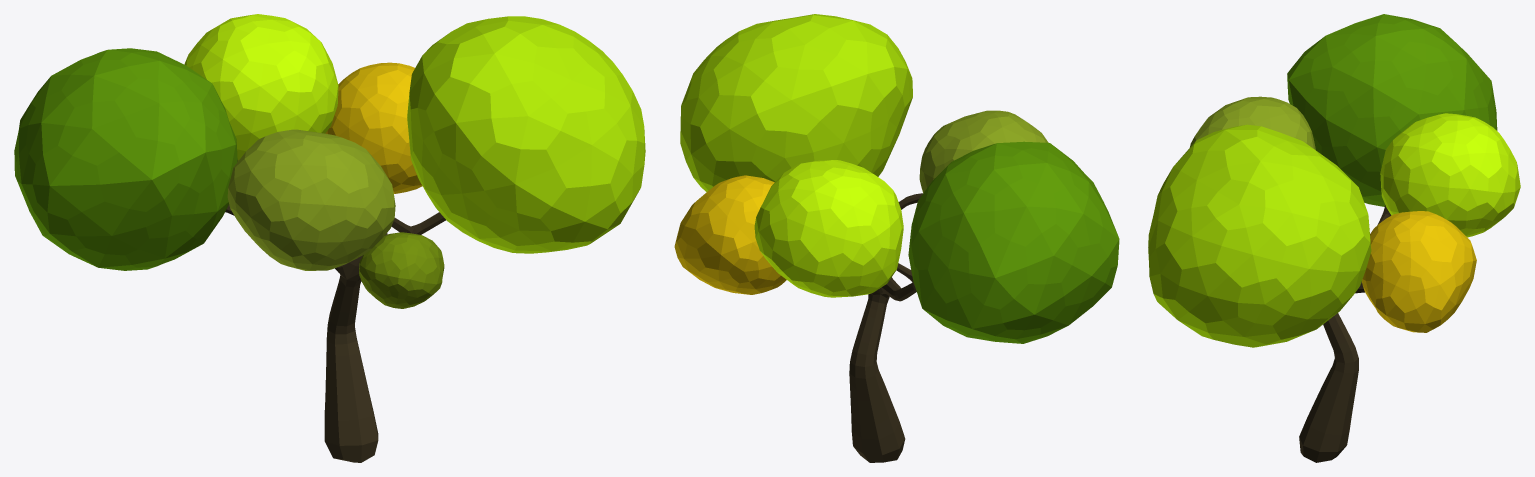
The model's file is tree02.glb.
3 views of the same model, side by side, from view 1: azimuth 30°, elevation 25°; view 2: azimuth 150°, elevation 25°; view 3: azimuth 270°, elevation 25° (orthographic). The views are drawn at different scales.
Parts seen in each view (by area): view 1: Icosphere.002, Icosphere.005, Icosphere.001, Icosphere.003, Cube, Icosphere.004, Icosphere; view 2: Icosphere.005, Icosphere.002, Icosphere.003, Icosphere.004, Cube, Icosphere.001; view 3: Icosphere.002, Icosphere.005, Icosphere.003, Icosphere.004, Cube, Icosphere.001.
Part boxes in pixels (x1,y1,x2,y2): Icosphere.002: (407, 16, 645, 253); Icosphere.005: (14, 48, 237, 270); Icosphere.001: (227, 129, 395, 270); Icosphere.003: (184, 14, 338, 161); Cube: (225, 160, 445, 462); Icosphere.004: (325, 62, 422, 193); Icosphere: (359, 232, 444, 308); Icosphere.005: (908, 141, 1119, 343); Icosphere.002: (680, 14, 912, 192); Icosphere.003: (754, 160, 903, 297); Icosphere.004: (674, 175, 786, 294); Cube: (849, 193, 922, 462); Icosphere.001: (919, 110, 1048, 192); Icosphere.002: (1148, 124, 1371, 347); Icosphere.005: (1287, 14, 1497, 206); Icosphere.003: (1380, 113, 1520, 237); Icosphere.004: (1362, 211, 1476, 332); Cube: (1299, 205, 1391, 462); Icosphere.001: (1189, 96, 1315, 149).
Size of the model in its own units: 14.44 by 11.34 by 10.31.
